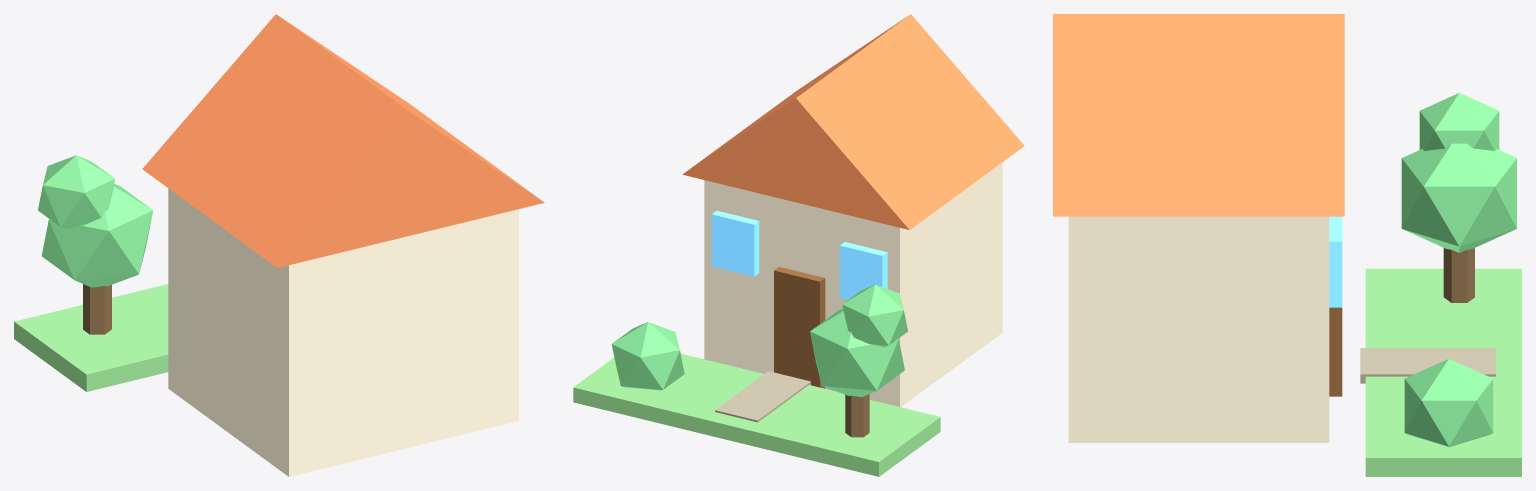
The model's file is res_suburb_1.glb.
The picture shows the model from 3 angles, left to right: view 1: azimuth 30°, elevation 25°; view 2: azimuth 150°, elevation 25°; view 3: azimuth 270°, elevation 25°; orthographic projection. The views are drawn at different scales.
Parts seen in each view (by area): view 1: res_suburb_1; view 2: res_suburb_1; view 3: res_suburb_1.
Part boxes in pixels (box(x1,y1,x2,y2)): res_suburb_1: box(14, 14, 544, 476); res_suburb_1: box(573, 14, 1024, 476); res_suburb_1: box(1053, 14, 1521, 476).
Size of the model in its own units: 0.8605 by 0.79 by 0.9.
